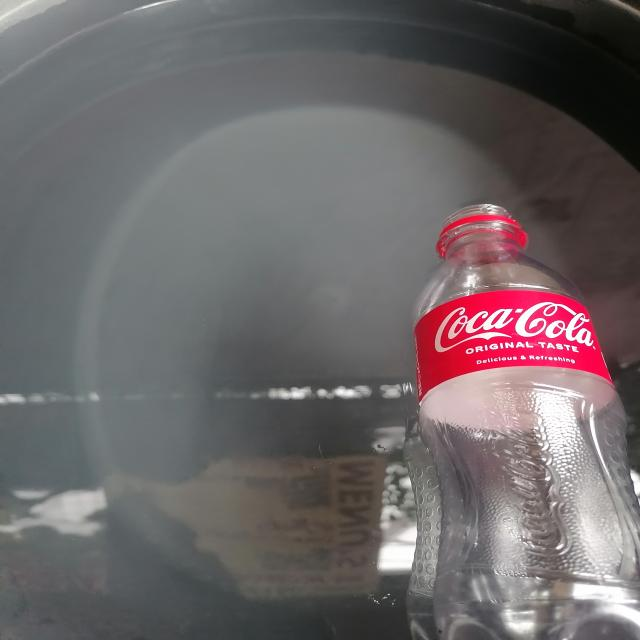Plastic Bottle: (405, 204, 640, 640)
